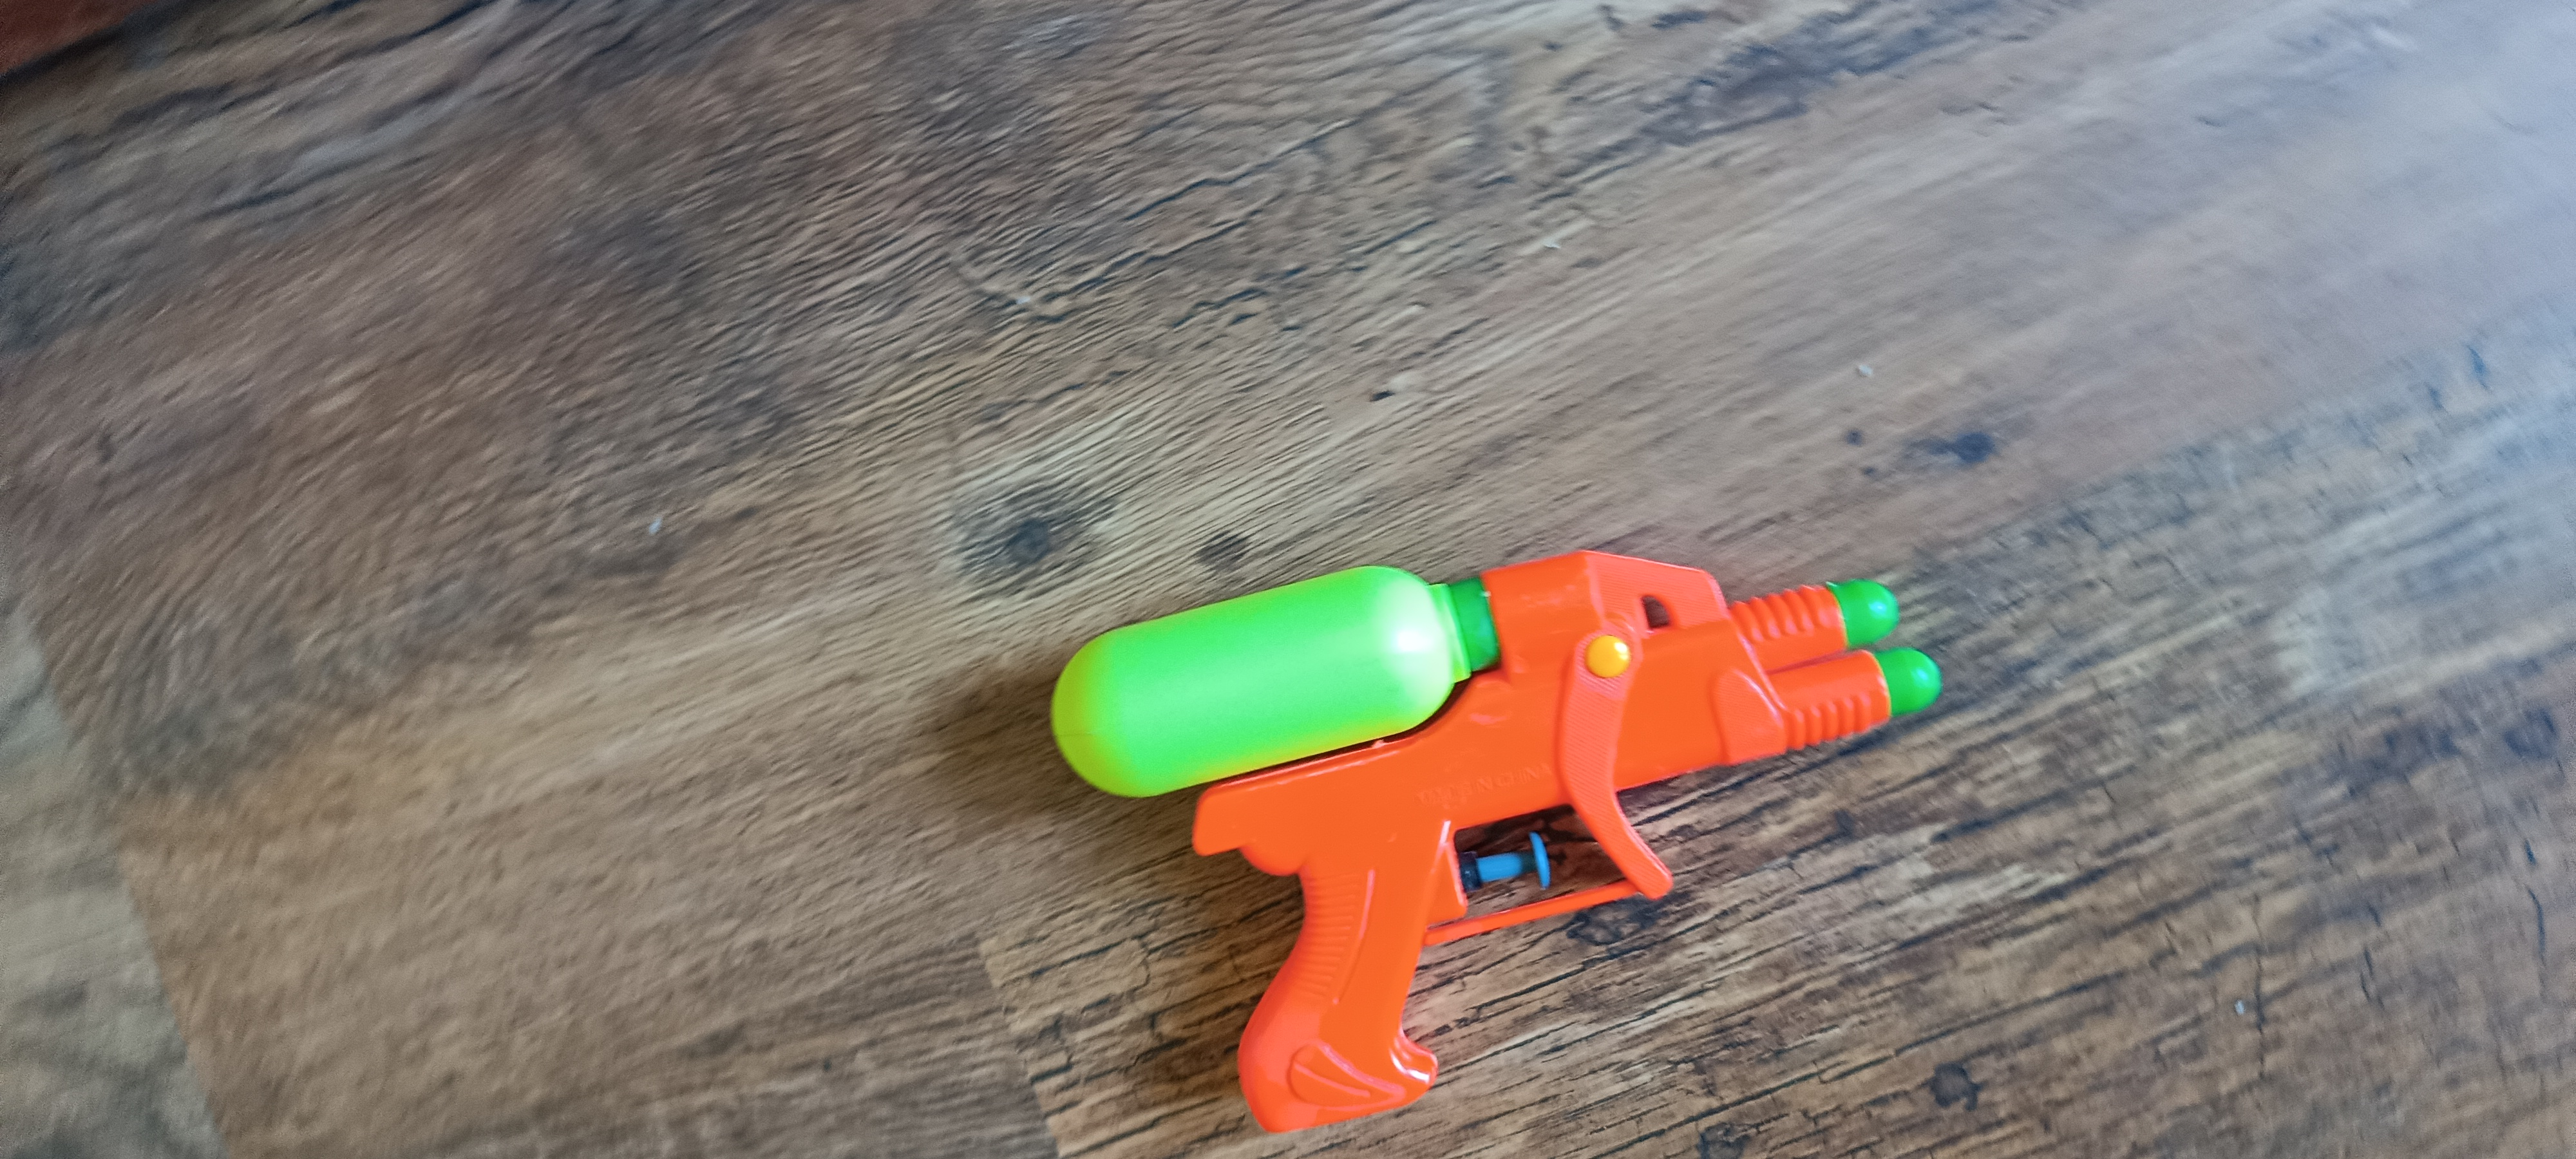Water Gun: (1050, 548, 1943, 1131)
